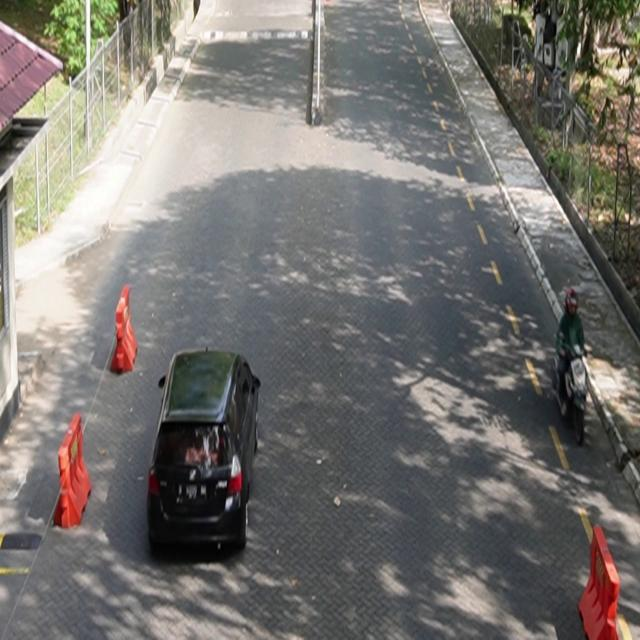car: (148, 346, 262, 554)
